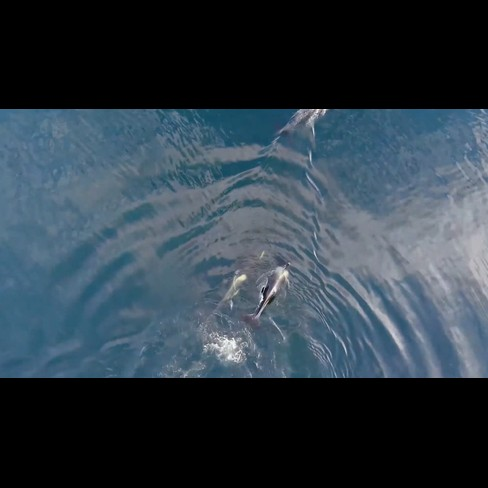orca: (235, 228, 303, 344)
